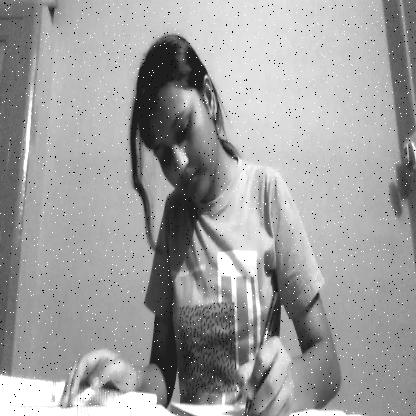Distracted: (140, 53, 215, 212)
